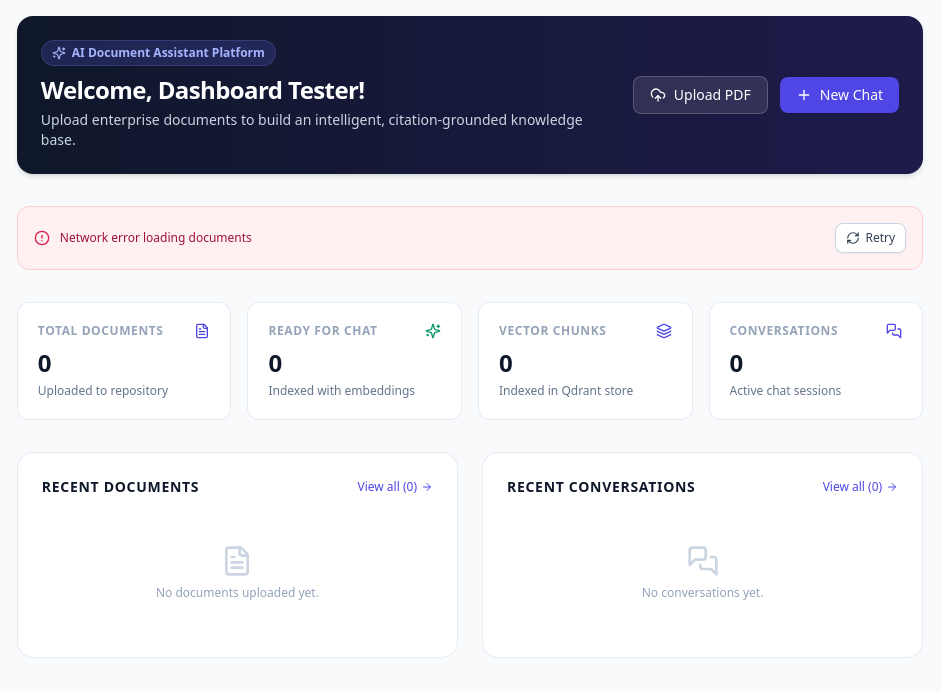
Test: Dashboard Page Audit and Functional Tests › 7. Handles API error with visible error banner and retry action
This screenshot has width=941, height=691.
Check: the message "Network error loading documents Retry" is shown, box [17,206,923,270]
Check: the text "Network error loading documents" is shown, box [60,230,252,246]
Note: Click retry
Click the button with test id "retry-dashboard-button" at (870, 238), box [834,223,906,253]
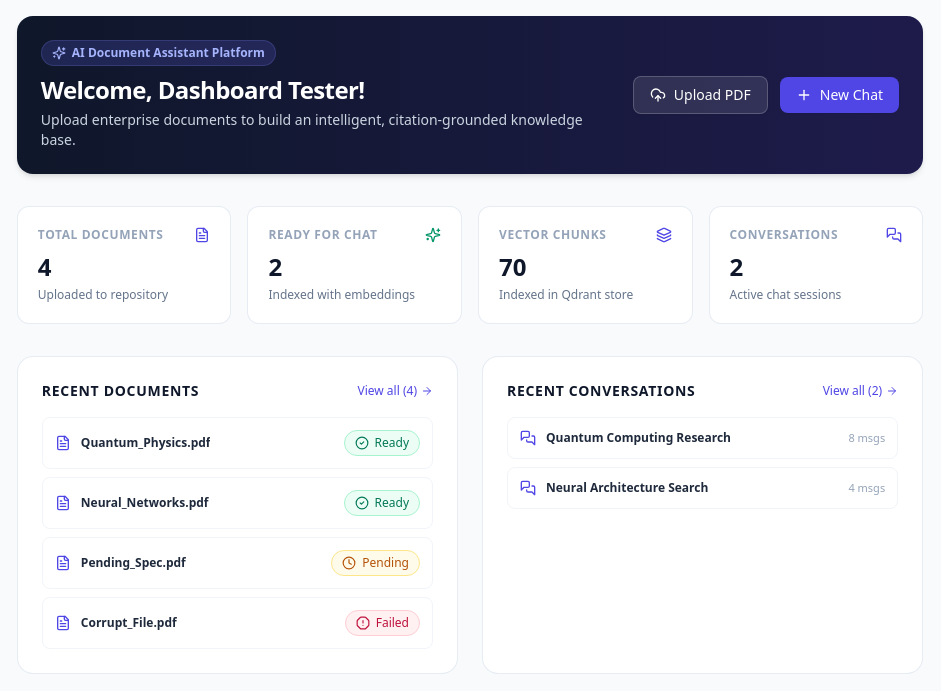
Check: the message with test id "dashboard-error-banner" is gone
Check: the text with test id "stat-total-documents-value" reads "4", box [38,250,52,283]
